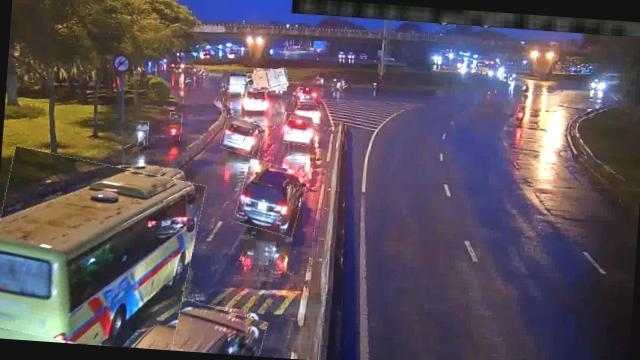Bike: (167, 112, 182, 140), (136, 121, 148, 148), (515, 104, 527, 124)
Bus: (0, 150, 202, 350)
Car: (109, 288, 268, 356), (235, 161, 306, 234), (220, 116, 266, 156), (280, 112, 316, 145)
Truck: (246, 67, 288, 93)
